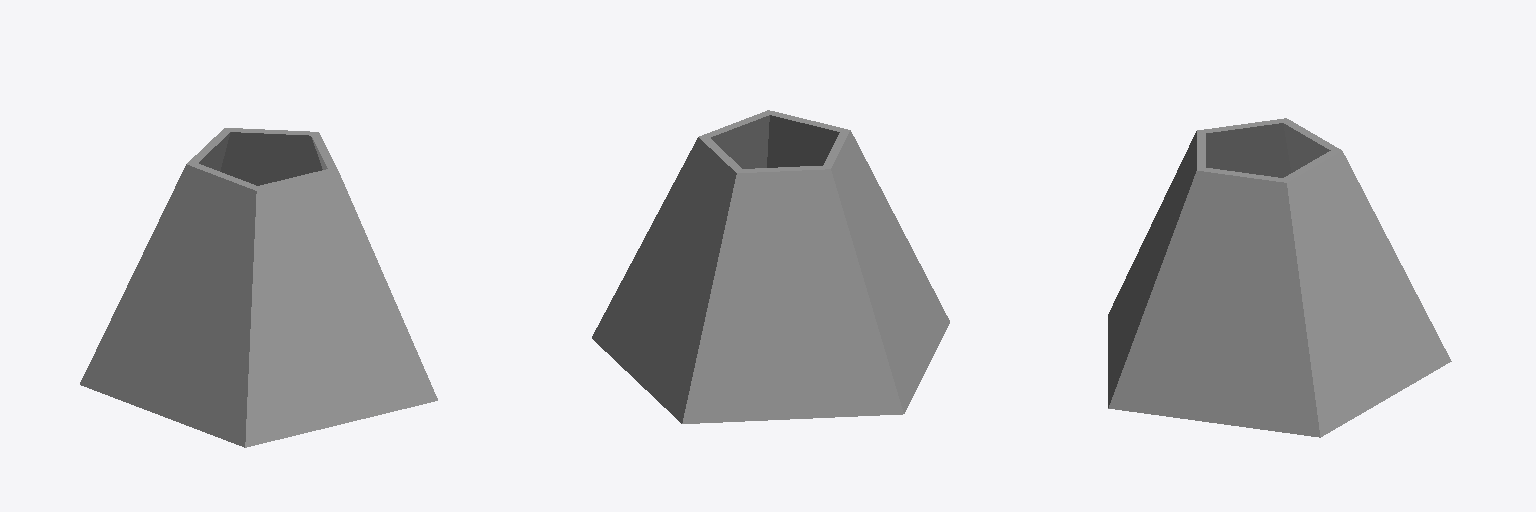
File: LampShade.obj
3 renders of one model, left to right at view 1: azimuth 30°, elevation 25°; view 2: azimuth 150°, elevation 25°; view 3: azimuth 270°, elevation 25°, orthographic.
Visible parts, largest first — view 1: Cylinder.001; view 2: Cylinder.001; view 3: Cylinder.001.
Boxes of the visible parts, x1,y1,x2,y2 form: Cylinder.001: [80, 128, 437, 447]; Cylinder.001: [592, 110, 949, 423]; Cylinder.001: [1108, 118, 1451, 437].
Size of the model in its own units: 0.6202 by 0.3997 by 0.5899.